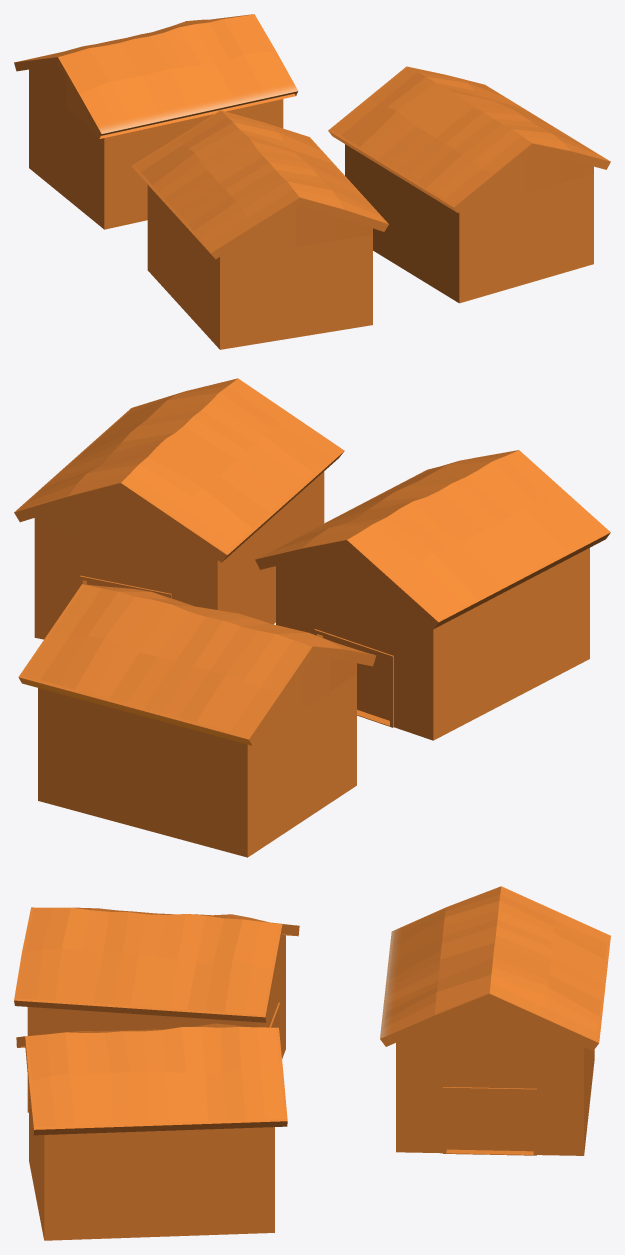
The model's file is SettlementFour.fbx.
3 renders of one model, top to bottom at view 1: azimuth 30°, elevation 25°; view 2: azimuth 150°, elevation 25°; view 3: azimuth 270°, elevation 25°, orthographic. The views are drawn at different scales.
Visible parts, largest first — view 1: Settlement; view 2: Settlement; view 3: Settlement.
Boxes of the visible parts, bbox=[...] form: Settlement: bbox=[14, 14, 610, 349]; Settlement: bbox=[14, 378, 610, 857]; Settlement: bbox=[14, 886, 610, 1240].
Bounding box in the file's own units: 32.36 × 11.55 × 36.95.
